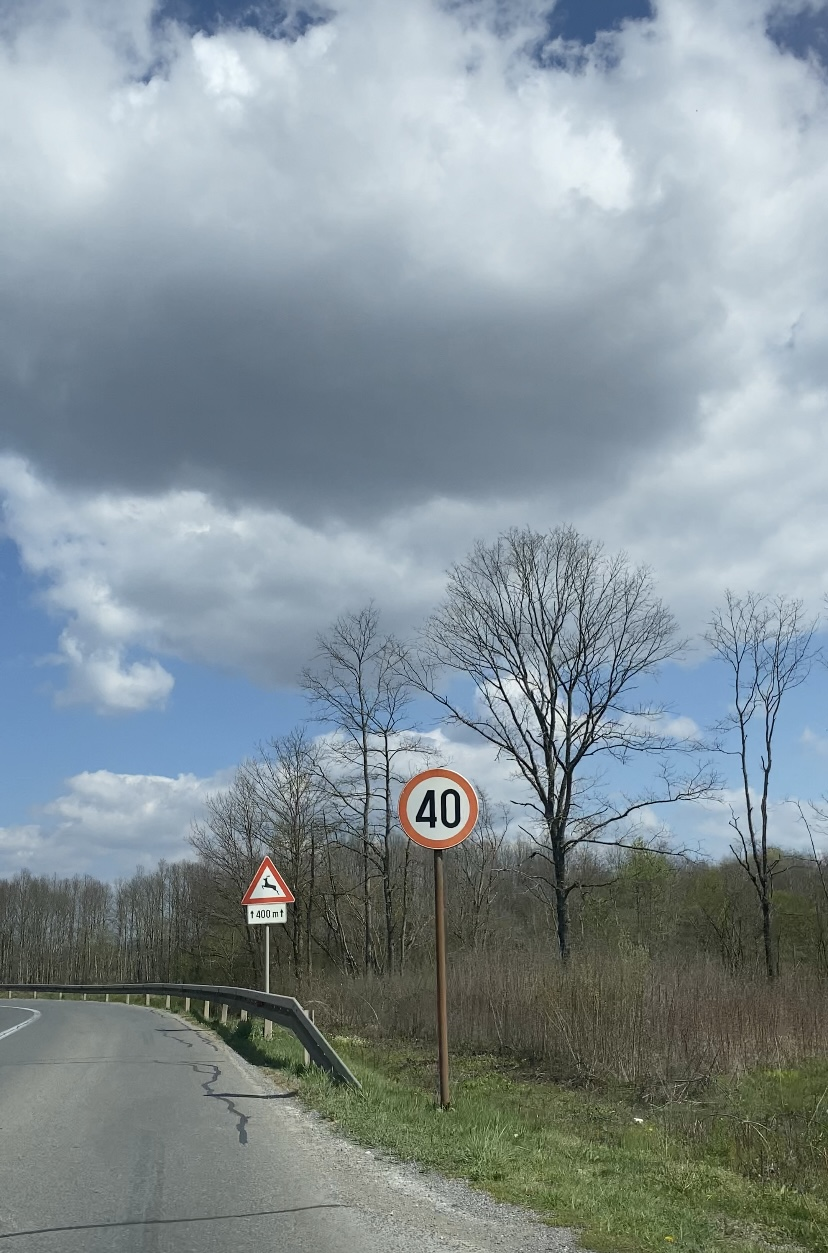Divljač na cesti: (241, 856, 296, 905)
Ograničenje brzine 40: (398, 768, 479, 850)
